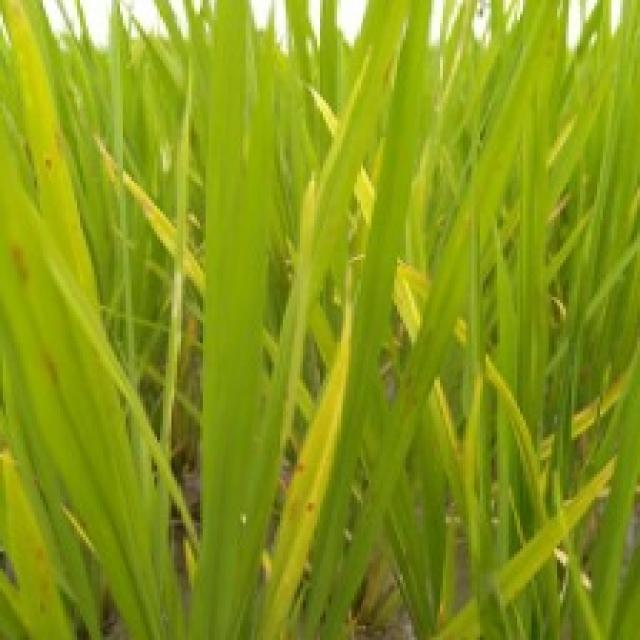Rice___Brown_Spot: (2, 183, 173, 637), (254, 278, 354, 637), (4, 0, 100, 330), (5, 456, 76, 637)
